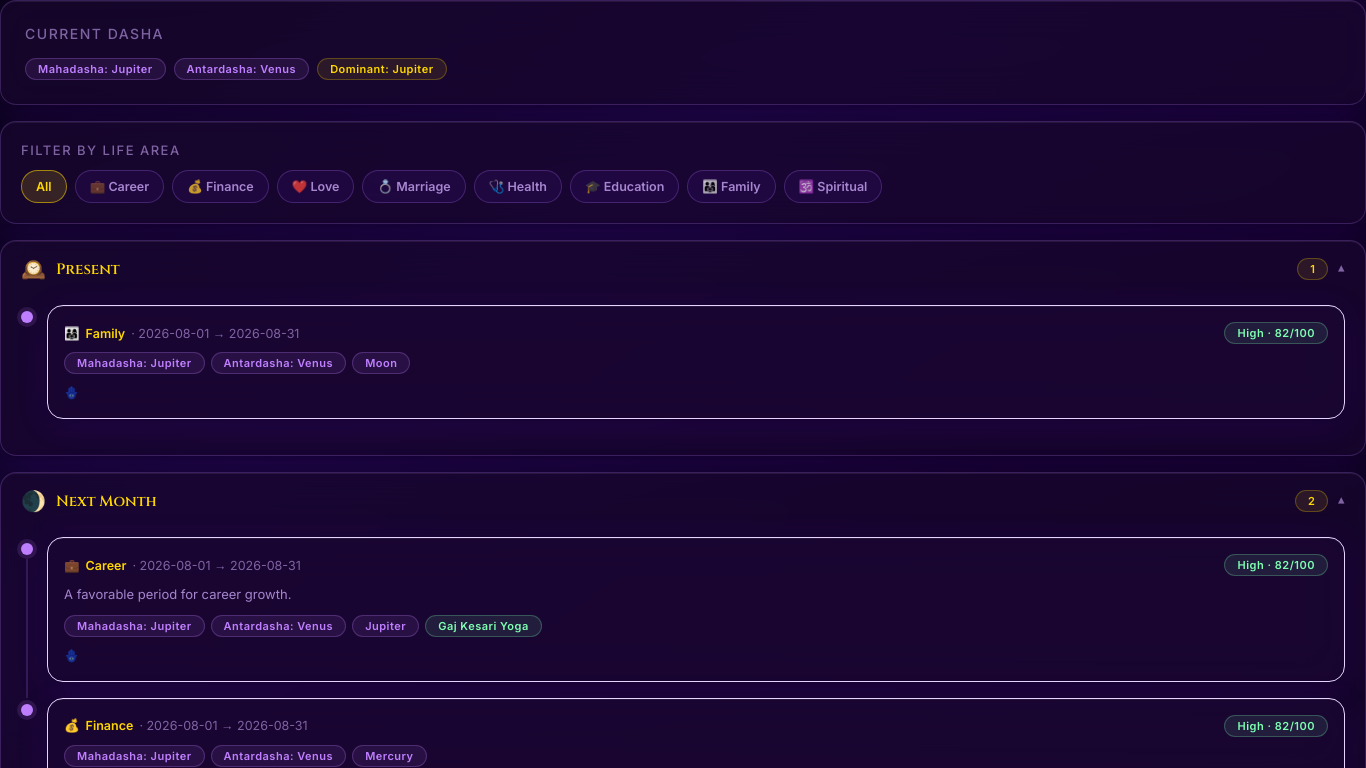
it: TimelineTab — AI Timeline filtering › shows an empty-filter state when no event matches the selected category
The width and height of the screenshot is (1366, 768).
Click the button "❤️ Love": [316, 186] box [277,170,354,203]
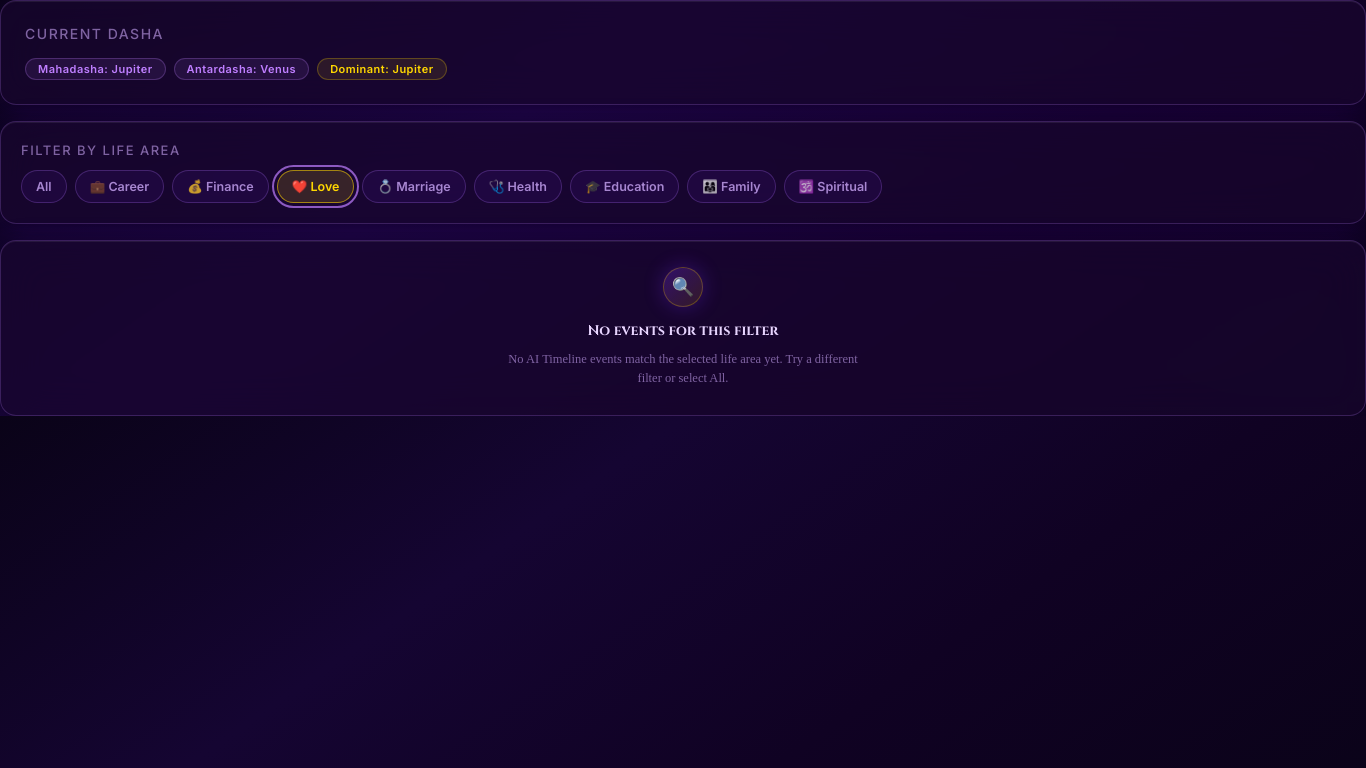
expect the heading "No events for this filter" is shown: met, box [588,321,778,340]
